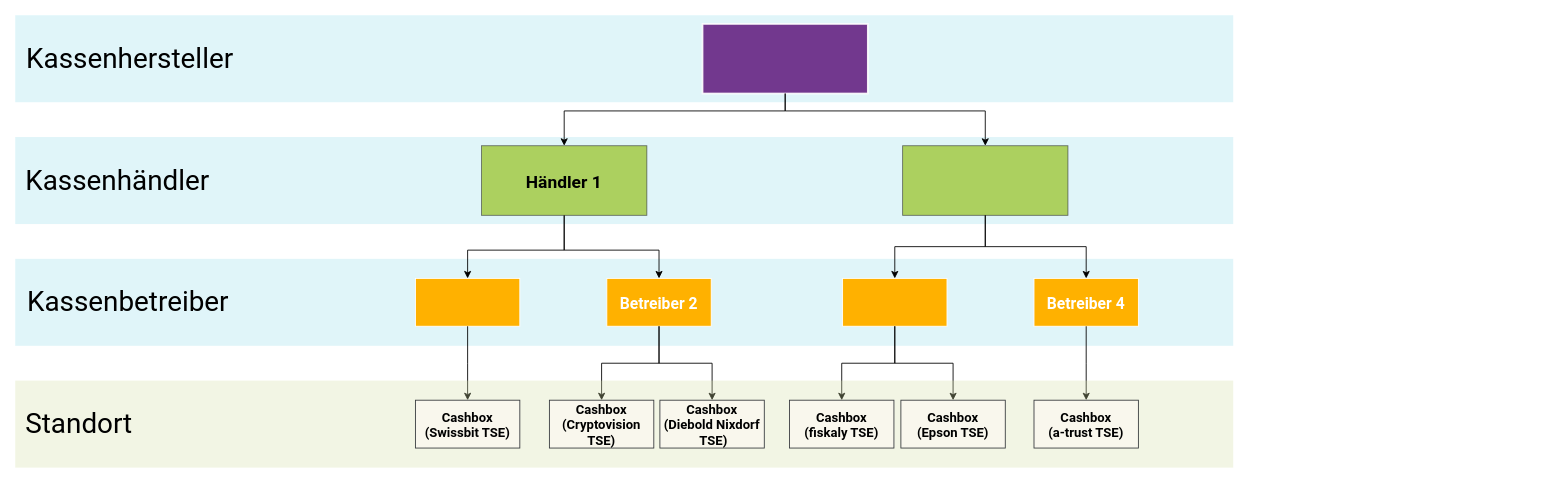
The diagram is 1561 pixels wide and 482 high, and some of its shapes have lost their labels. Here are the shapes that lost their labels. From the top down, the centre of each, then its label:
the point at 784,58: Kassensystem
the point at 985,180: Händler 2
the point at 467,302: Betreiber 1
the point at 894,302: Betreiber 3
